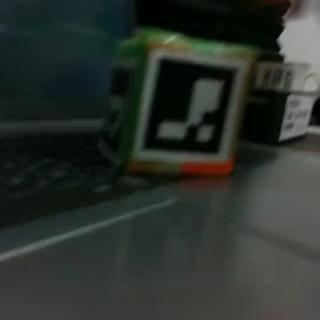armor: (134, 49, 244, 162)
robot: (95, 28, 248, 180)
